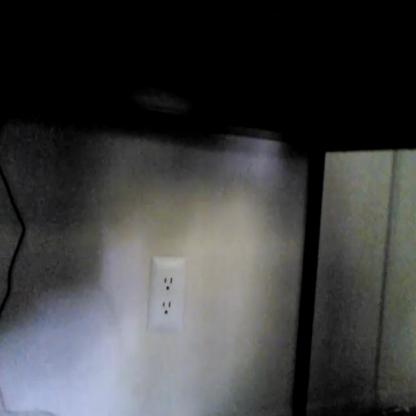OUTLET: (148, 256, 184, 332)
